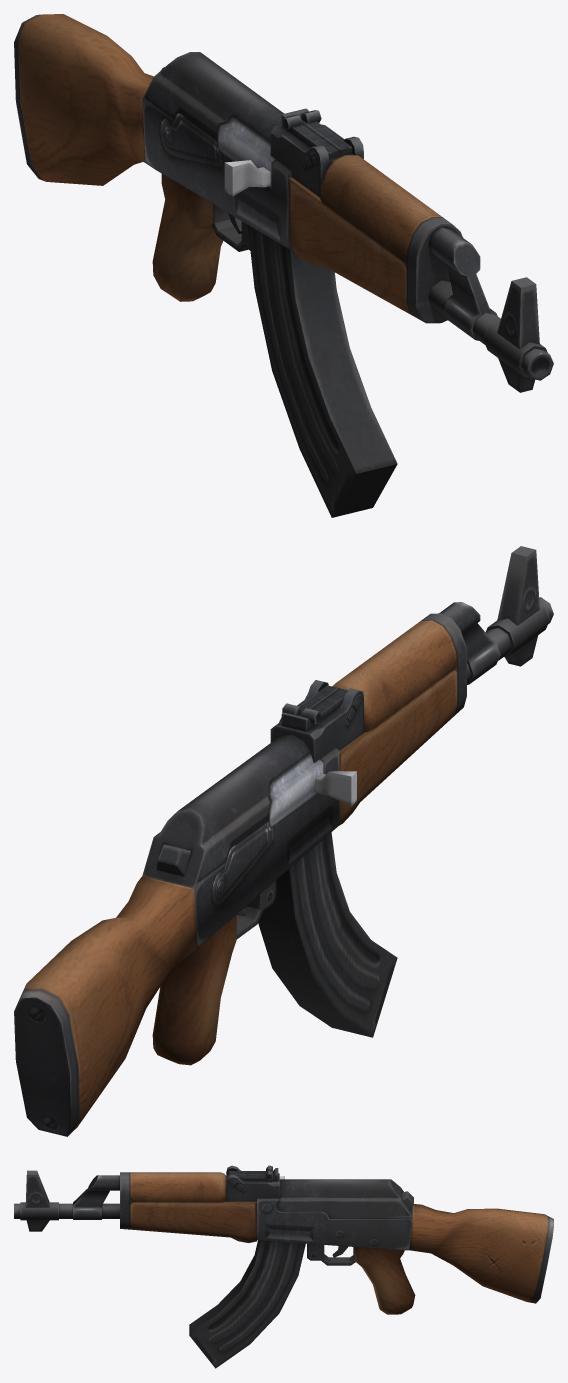
3 renders of one model, top to bottom at view 1: azimuth 30°, elevation 25°; view 2: azimuth 150°, elevation 25°; view 3: azimuth 270°, elevation 25°, orthographic. The views are drawn at different scales.
Visible parts, largest first — view 1: Rifle_AK47; view 2: Rifle_AK47; view 3: Rifle_AK47.
Boxes of the visible parts, bbox=[...] form: Rifle_AK47: bbox=[14, 14, 553, 517]; Rifle_AK47: bbox=[14, 546, 553, 1136]; Rifle_AK47: bbox=[14, 1165, 553, 1368].
Size of the model in its own units: 5.94 by 21.78 by 55.02.
Materials: 1 (1 with a texture image).
